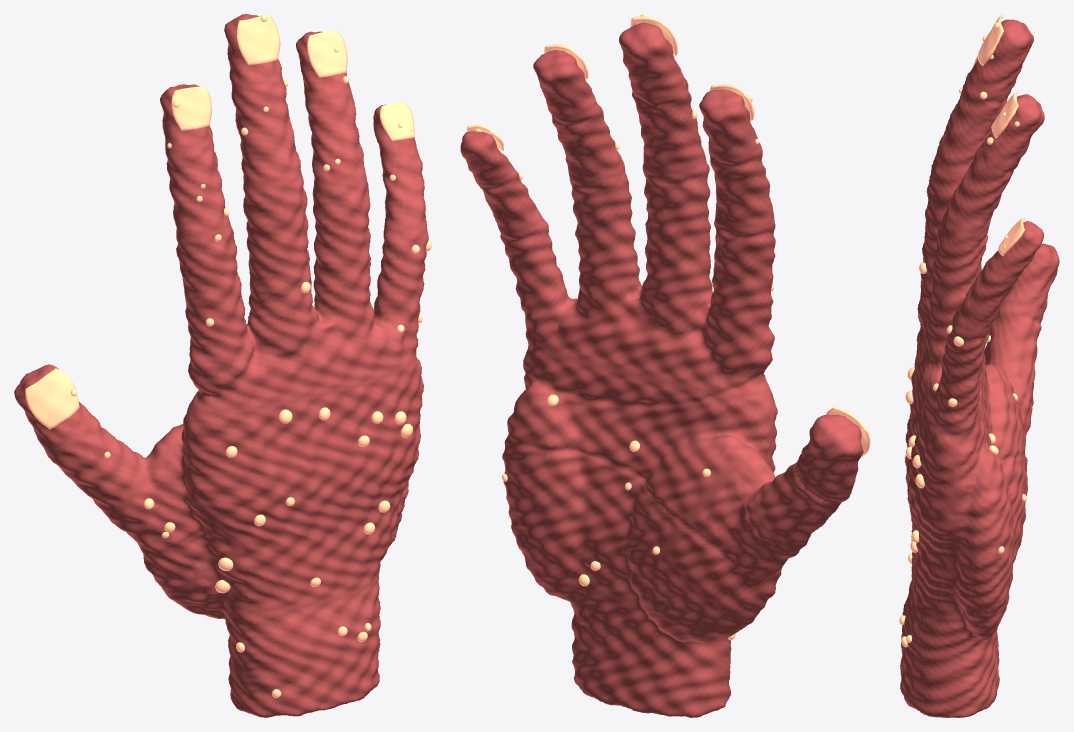
The model's file is family-06.glb.
3 renders of one model, left to right at view 1: azimuth 30°, elevation 25°; view 2: azimuth 150°, elevation 25°; view 3: azimuth 270°, elevation 25°, orthographic. The views are drawn at different scales.
Visible parts, largest first — view 1: knuckles__knuckles_sculpt, back_of_hand__back_of_hand_sculpt, middle_sections__middle_sections_sculpt, wrist__wrist_sculpt, fingertips__fingertips_sculpt, palm__palm_sculpt, nails__thumb_claw, back_of_hand, nails__middle_claw, nails__ring_claw, nails__index_claw, nails__pinky_claw (+1 smaller); view 2: knuckles__knuckles_sculpt, palm__palm_sculpt, middle_sections__middle_sections_sculpt, wrist__wrist_sculpt, fingertips__fingertips_sculpt, palm; view 3: palm__palm_sculpt, knuckles__knuckles_sculpt, middle_sections__middle_sections_sculpt, wrist__wrist_sculpt, fingertips__fingertips_sculpt, back_of_hand__back_of_hand_sculpt, back_of_hand, nails__middle_claw, nails__ring_claw, nails__pinky_claw, knuckles.
Part boxes in pixels (<box>): knuckles__knuckles_sculpt: <box>102,173,428,593</box>; back_of_hand__back_of_hand_sculpt: <box>185,355,423,611</box>; middle_sections__middle_sections_sculpt: <box>44,78,426,512</box>; wrist__wrist_sculpt: <box>176,558,382,717</box>; fingertips__fingertips_sculpt: <box>14,14,418,450</box>; palm__palm_sculpt: <box>165,401,409,604</box>; nails__thumb_claw: <box>25,368,79,429</box>; back_of_hand: <box>215,407,412,593</box>; nails__middle_claw: <box>237,14,280,65</box>; nails__ring_claw: <box>307,30,347,77</box>; nails__index_claw: <box>171,85,211,130</box>; nails__pinky_claw: <box>380,101,414,140</box>; knuckles__knuckles_sculpt: <box>498,154,807,619</box>; palm__palm_sculpt: <box>502,341,773,629</box>; middle_sections__middle_sections_sculpt: <box>474,76,853,546</box>; wrist__wrist_sculpt: <box>534,576,744,717</box>; fingertips__fingertips_sculpt: <box>460,22,863,495</box>; palm: <box>502,394,710,586</box>; palm__palm_sculpt: <box>952,354,1025,631</box>; knuckles__knuckles_sculpt: <box>914,155,1033,495</box>; middle_sections__middle_sections_sculpt: <box>936,70,1043,393</box>; wrist__wrist_sculpt: <box>900,579,999,717</box>; fingertips__fingertips_sculpt: <box>971,19,1059,315</box>; back_of_hand__back_of_hand_sculpt: <box>904,359,954,619</box>; back_of_hand: <box>904,367,924,563</box>; nails__middle_claw: <box>977,14,1003,65</box>; nails__ring_claw: <box>991,91,1018,137</box>; nails__pinky_claw: <box>998,217,1025,255</box>; knuckles: <box>919,262,963,406</box>.
Bounding box in the file's own units: 0.1316 × 0.2179 × 0.048.
Materials: 2 (1 with a texture image).
